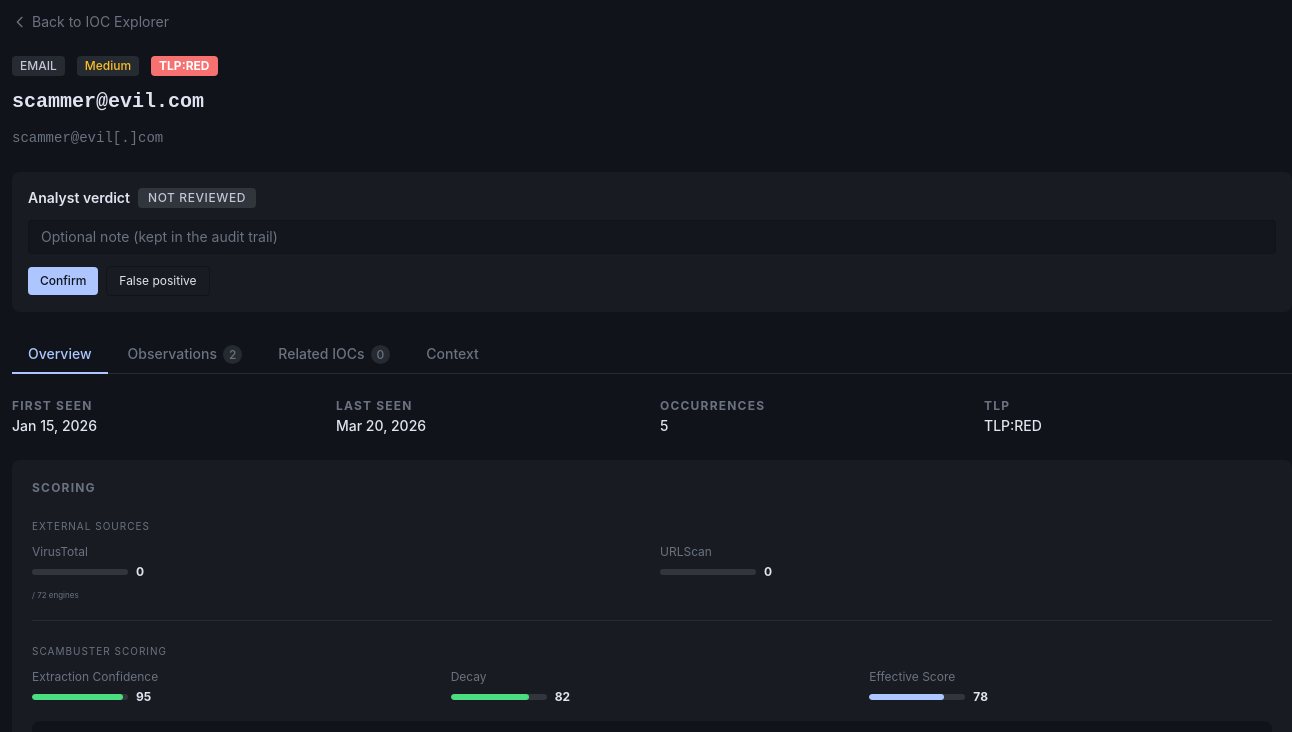
IocDetail — coverage gaps › renders Regex and Header extraction methods in observations tab
expect the heading "scammer@evil.com" is shown: met, box [12, 90, 204, 113]
Click the button "Observations2". click: (185, 355)
box: [112, 336, 258, 374]
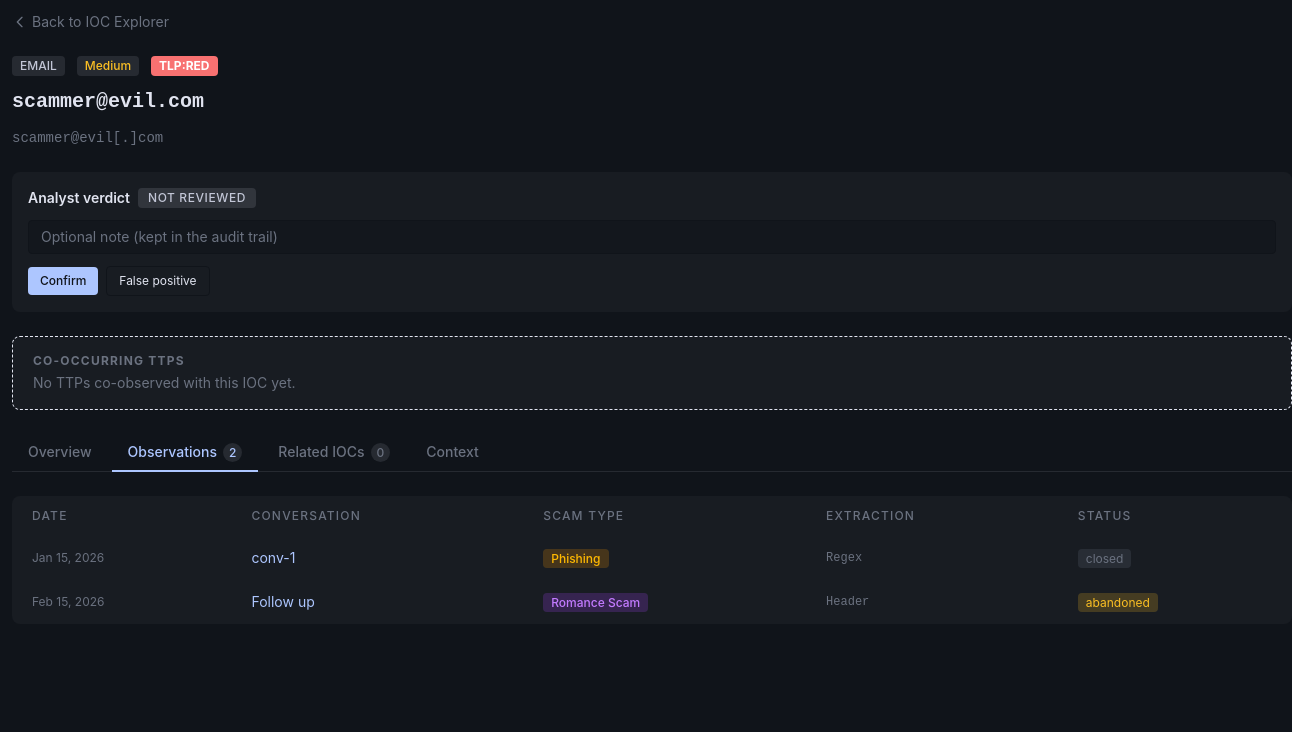
expect the text "Regex" is shown: met, box [806, 536, 1058, 580]
expect the text "Header" is shown: met, box [806, 580, 1058, 624]
